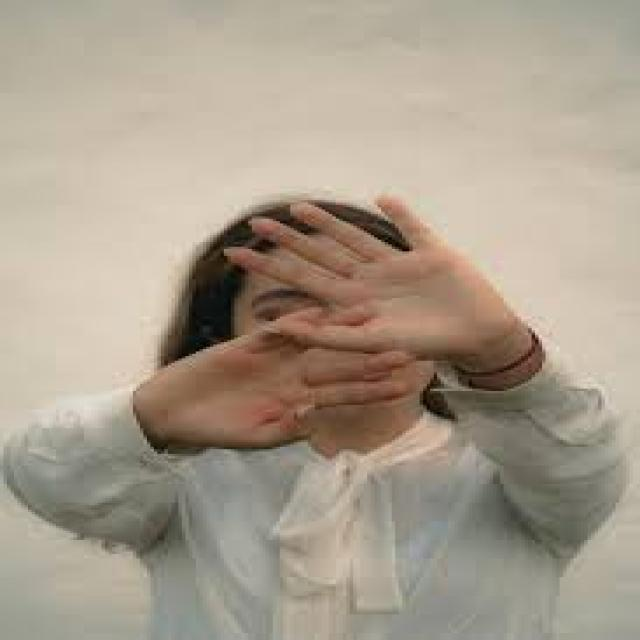7_mano_rostro: (219, 201, 437, 402)
